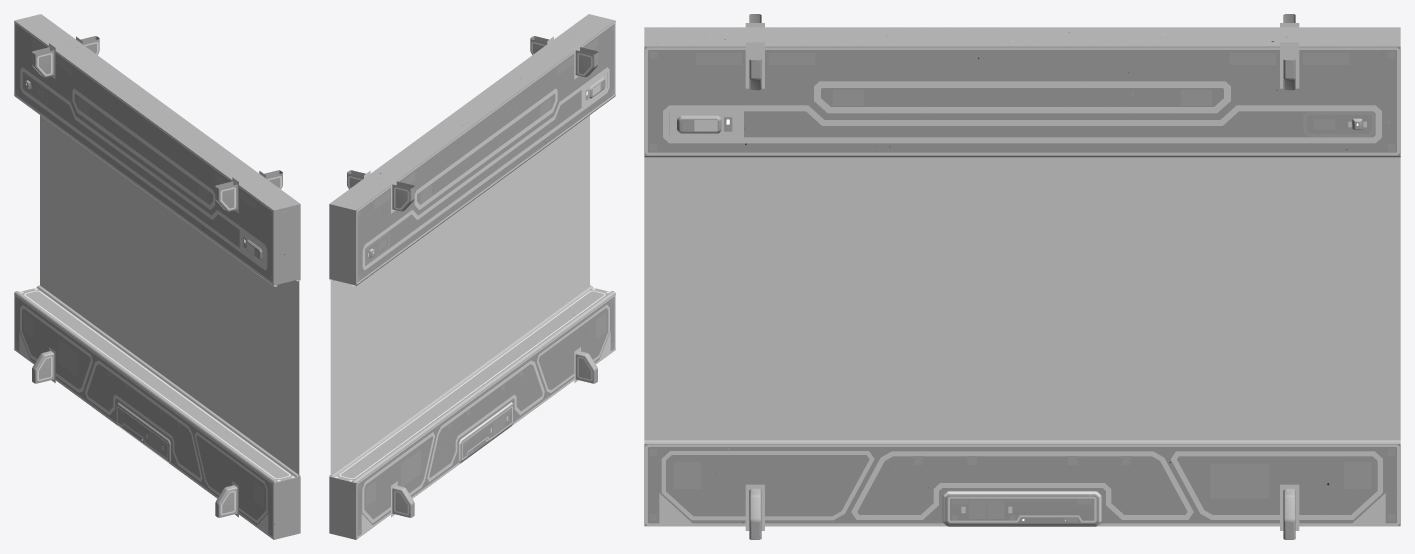
File: SM_Modular_IndoorWallWindow_2_Merged.fbx
3 renders of one model, left to right at view 1: azimuth 30°, elevation 25°; view 2: azimuth 150°, elevation 25°; view 3: azimuth 270°, elevation 25°, orthographic. The views are drawn at different scales.
Parts seen in each view (by area): view 1: SM_Modular_IndoorWallWindow_2_Merged_LOD0; view 2: SM_Modular_IndoorWallWindow_2_Merged_LOD0; view 3: SM_Modular_IndoorWallWindow_2_Merged_LOD0.
Boxes of the visible parts, x1,y1,x2,y2 form: SM_Modular_IndoorWallWindow_2_Merged_LOD0: (14,14,300,539); SM_Modular_IndoorWallWindow_2_Merged_LOD0: (329,14,615,539); SM_Modular_IndoorWallWindow_2_Merged_LOD0: (644,14,1400,539).
Bounding box in the file's own units: 72.49 × 500 × 357.
